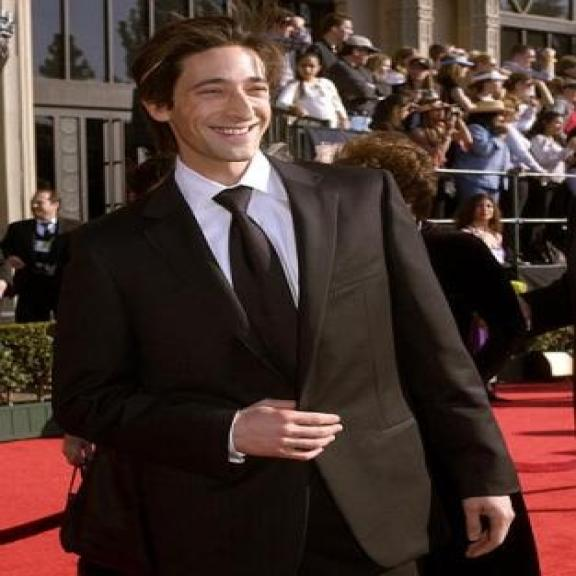face: (124, 45, 278, 168), (25, 191, 64, 224), (288, 14, 317, 51), (325, 12, 357, 42), (485, 109, 511, 142), (507, 43, 538, 70), (472, 196, 499, 226), (346, 43, 374, 71), (293, 54, 322, 80), (402, 65, 437, 86), (540, 110, 568, 136), (270, 16, 294, 44), (482, 69, 506, 97), (451, 59, 473, 82), (374, 57, 393, 83)
